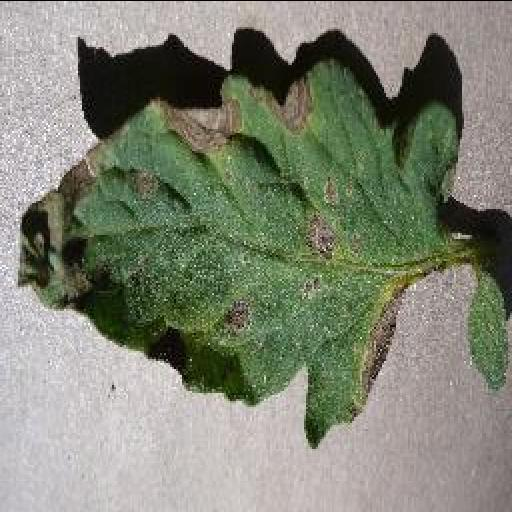disease_tomato: (18, 66, 458, 448)
